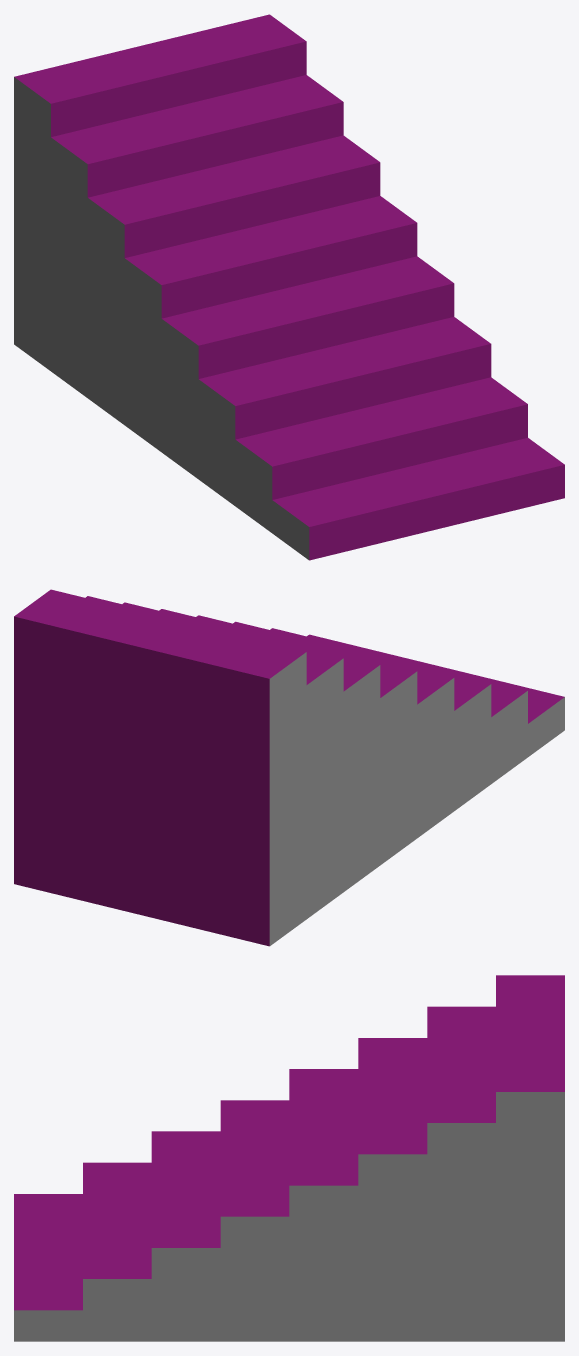
File: Stairs.obj
The picture shows the model from 3 angles, top to bottom: view 1: azimuth 30°, elevation 25°; view 2: azimuth 150°, elevation 25°; view 3: azimuth 270°, elevation 25°; orthographic projection. The views are drawn at different scales.
Visible parts, largest first — view 1: Stairs; view 2: Stairs; view 3: Stairs.
Part boxes in pixels (x1,y1,x2,y2): Stairs: (14,14,564,560); Stairs: (14,589,564,946); Stairs: (14,975,564,1341).
Bounding box in the file's own units: 1 × 1 × 2.
